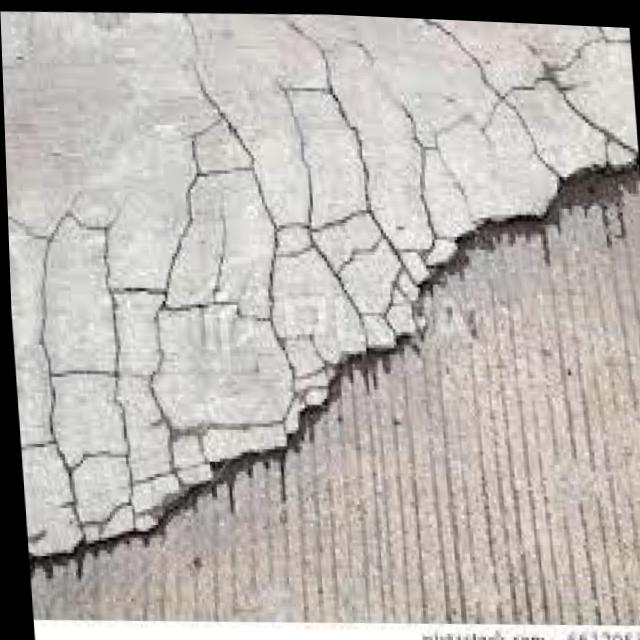Crack: (188, 12, 363, 349), (18, 226, 280, 436), (344, 12, 638, 174), (32, 205, 178, 502)
